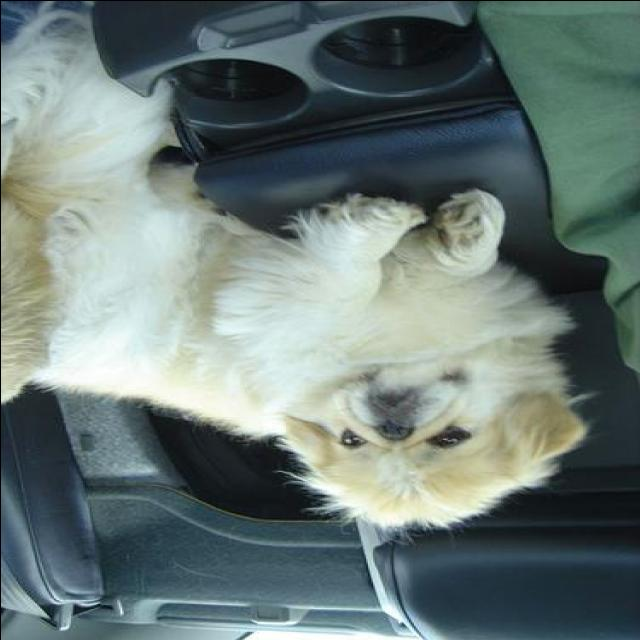pekinese: (3, 3, 601, 535)
